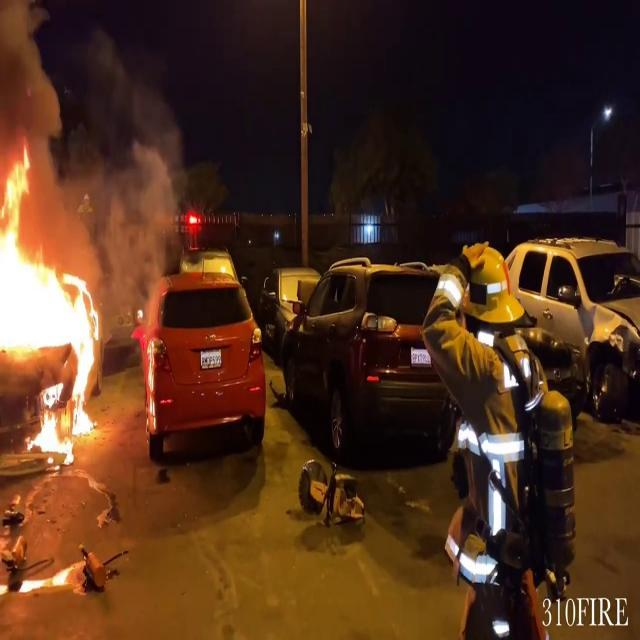Fire: (0, 150, 112, 452)
Smoke: (39, 20, 206, 276)
